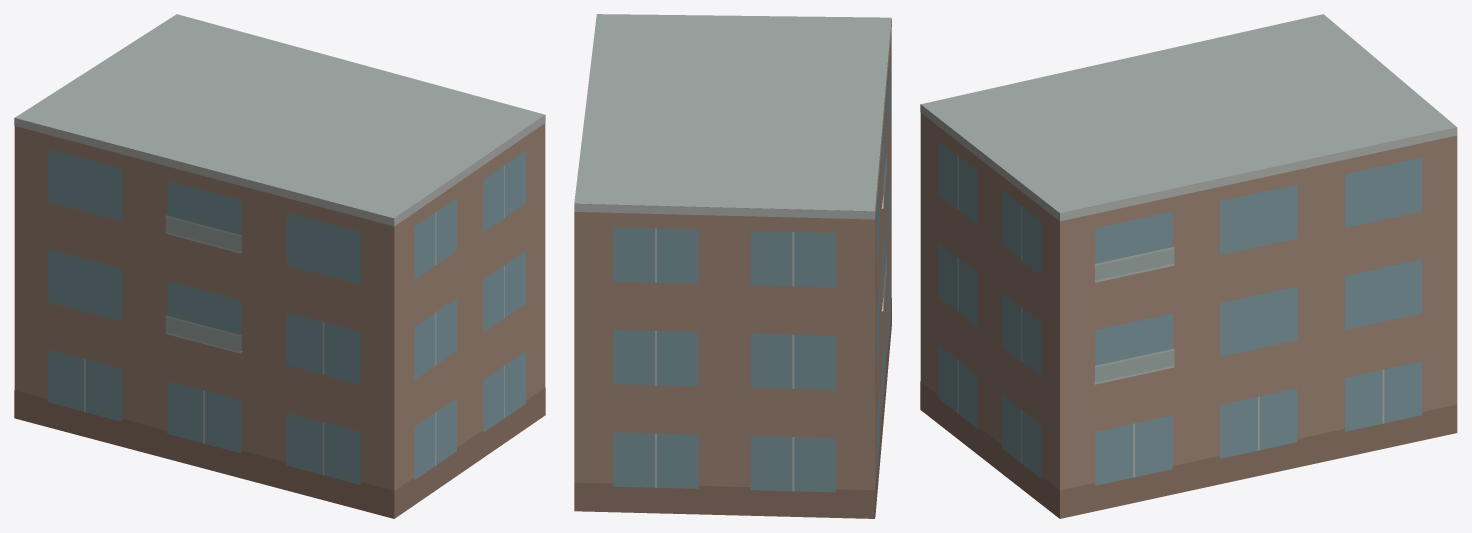
The model's file is survey-upis-32602393.glb.
The picture shows the model from 3 angles, left to right: view 1: azimuth 30°, elevation 25°; view 2: azimuth 150°, elevation 25°; view 3: azimuth 270°, elevation 25°; orthographic projection. The views are drawn at different scales.
Parts seen in each view (by area): view 1: survey-upis-32602393.tmp; view 2: survey-upis-32602393.tmp; view 3: survey-upis-32602393.tmp.
Boxes of the visible parts, left/top/right/bottom form: survey-upis-32602393.tmp: left=14, top=14, right=545, bottom=518; survey-upis-32602393.tmp: left=574, top=14, right=891, bottom=518; survey-upis-32602393.tmp: left=920, top=14, right=1457, bottom=518.
Bounding box in the file's own units: 12.8 × 9.15 × 14.57.
